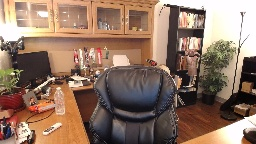Pugno: (183, 47, 201, 60)
